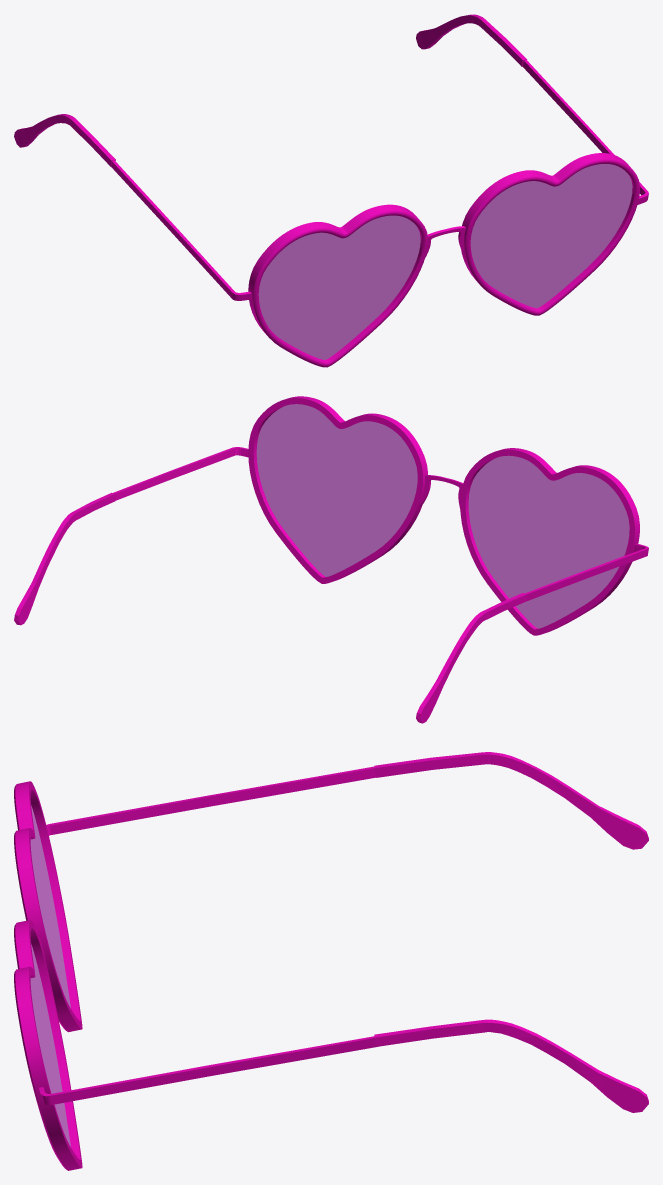
File: heart_glasses.glb
3 renders of one model, top to bottom at view 1: azimuth 30°, elevation 25°; view 2: azimuth 150°, elevation 25°; view 3: azimuth 270°, elevation 25°, orthographic. The views are drawn at different scales.
Visible parts, largest first — view 1: glasses_geom, oprava_geom.001; view 2: glasses_geom, oprava_geom.001; view 3: oprava_geom.001, glasses_geom.
Boxes of the visible parts, x1,y1,x2,y2 form: glasses_geom: [258, 164, 632, 359]; oprava_geom.001: [14, 14, 648, 367]; glasses_geom: [256, 404, 629, 628]; oprava_geom.001: [14, 396, 648, 723]; oprava_geom.001: [14, 752, 648, 1170]; glasses_geom: [30, 805, 70, 1146].
Size of the model in its own units: 16.87 by 6.35 by 16.64.
